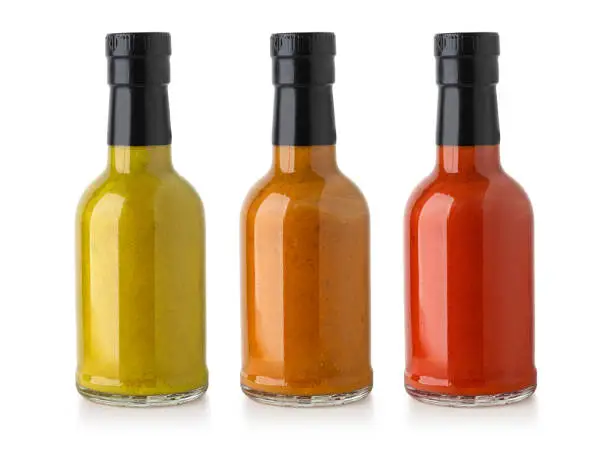Bottle: (71, 26, 221, 410), (236, 29, 377, 408), (402, 28, 540, 409)
